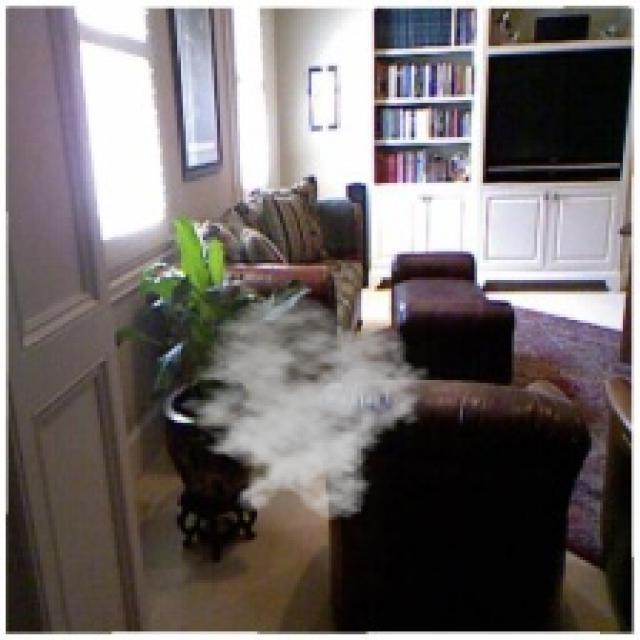Smoke: (162, 294, 432, 523)
